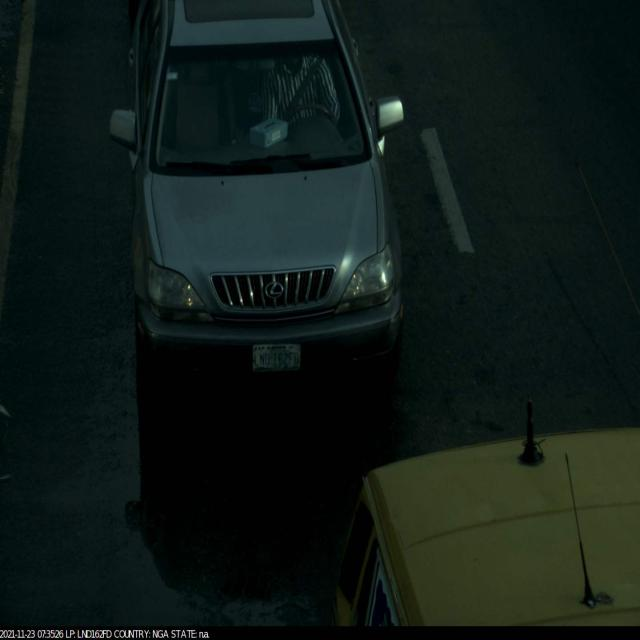windshield: (137, 30, 377, 186)
